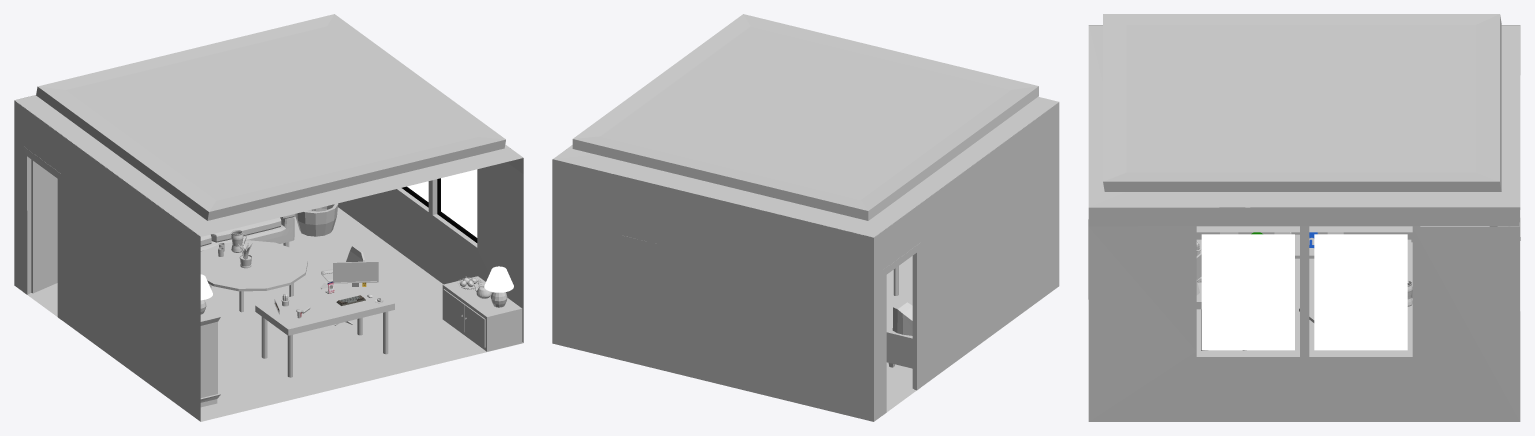
File: office.glb
The picture shows the model from 3 angles, left to right: view 1: azimuth 30°, elevation 25°; view 2: azimuth 150°, elevation 25°; view 3: azimuth 270°, elevation 25°; orthographic projection. The views are drawn at different scales.
Parts seen in each view (by area): view 1: bake, roof, rightwall, lamp; view 2: bake, roof; view 3: rightwall, roof, bake.
Boxes of the visible parts, left/top/right/bottom form: bake: left=14, top=95, right=523, bottom=421; roof: left=14, top=14, right=523, bottom=236; rightwall: left=338, top=158, right=523, bottom=342; lamp: left=200, top=266, right=513, bottom=300; bake: left=552, top=102, right=1059, bottom=421; roof: left=553, top=14, right=1058, bottom=237; rightwall: left=1088, top=207, right=1520, bottom=421; roof: left=1088, top=14, right=1520, bottom=207; bake: left=1089, top=25, right=1520, bottom=350.
Bounding box in the file's own units: 4.13 × 2.39 × 4.01.
Materials: 20 (9 with a texture image).
